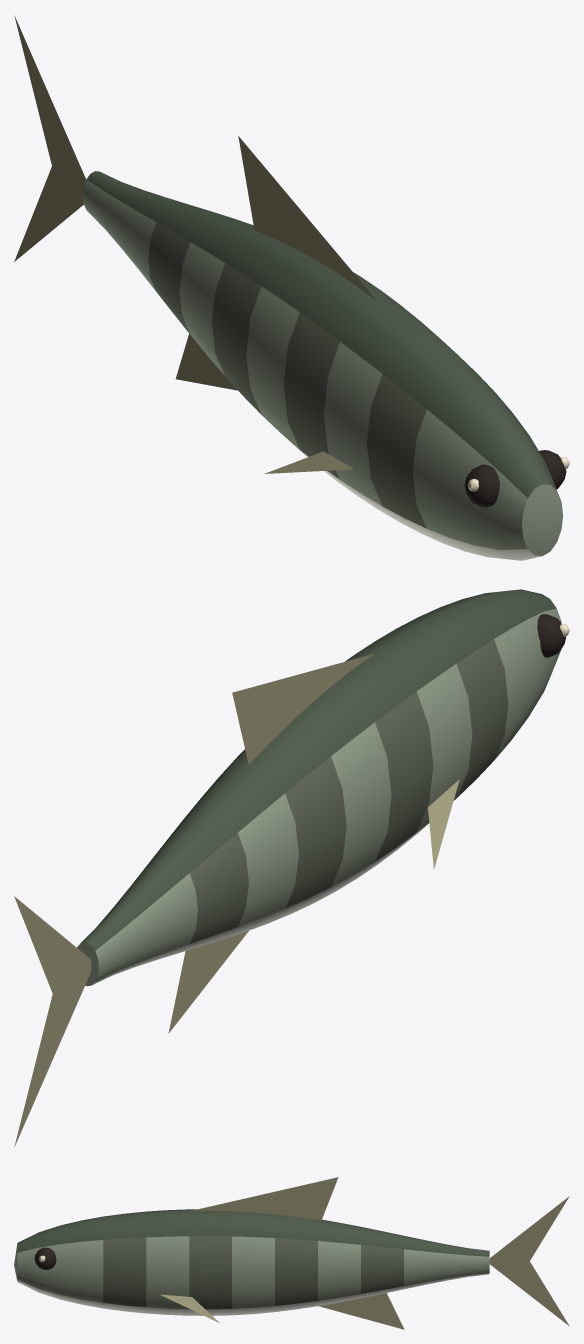
The model's file is zander.fbx.
The picture shows the model from 3 angles, top to bottom: view 1: azimuth 30°, elevation 25°; view 2: azimuth 150°, elevation 25°; view 3: azimuth 270°, elevation 25°; orthographic projection. The views are drawn at different scales.
Visible parts, largest first — view 1: Fish_zander_EXP; view 2: Fish_zander_EXP; view 3: Fish_zander_EXP.
Boxes of the visible parts, box(x1,y1,x2,y2) form: Fish_zander_EXP: box(14, 15, 569, 560); Fish_zander_EXP: box(14, 589, 569, 1146); Fish_zander_EXP: box(14, 1177, 569, 1329).
Bounding box in the file's own units: 0.138 × 0.2212 × 0.7299.
